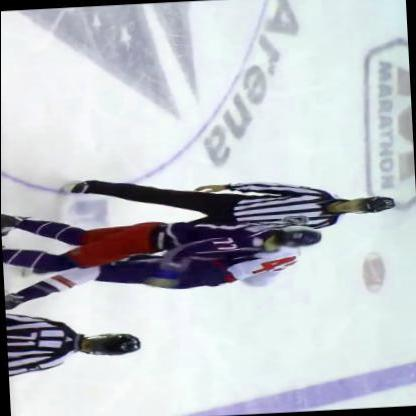voilence: (1, 213, 322, 299)
